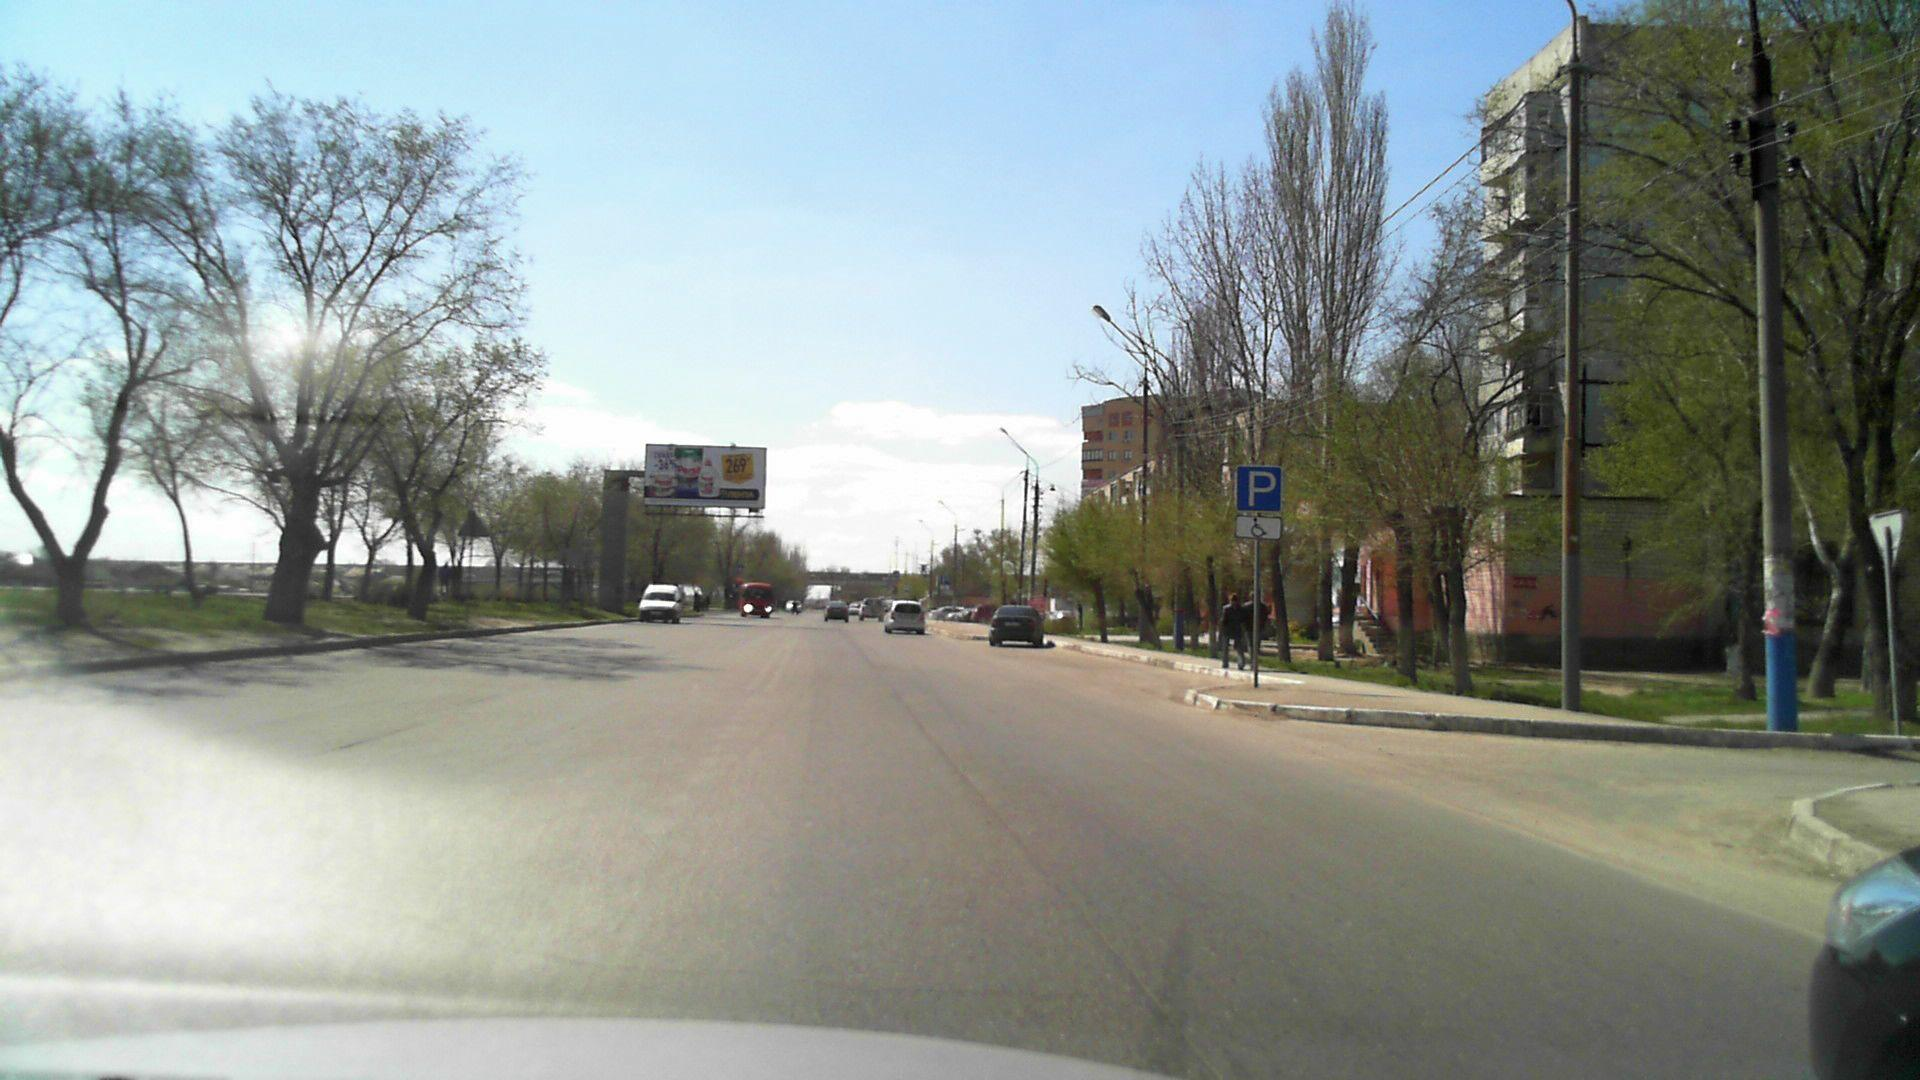6_4: (1235, 468, 1282, 511)
8_17: (1233, 514, 1281, 539)
